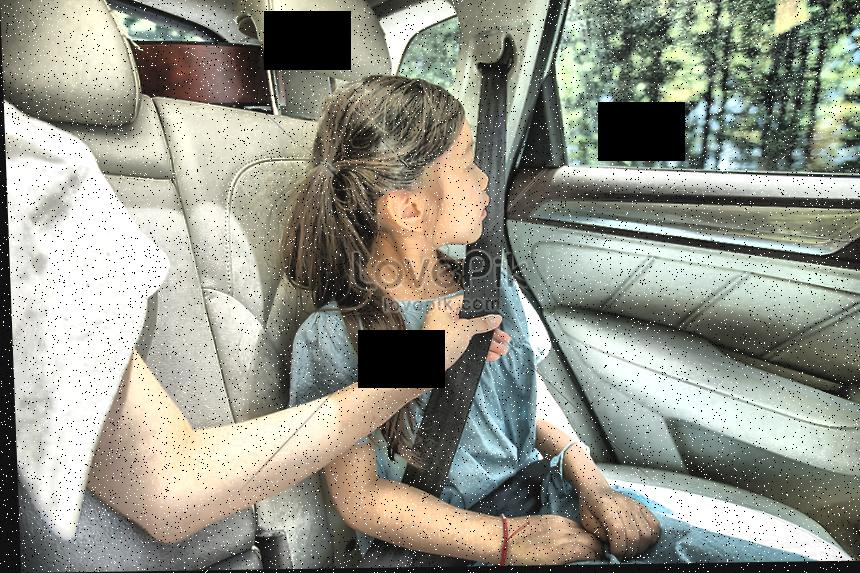seatbelt: (335, 53, 541, 569)
